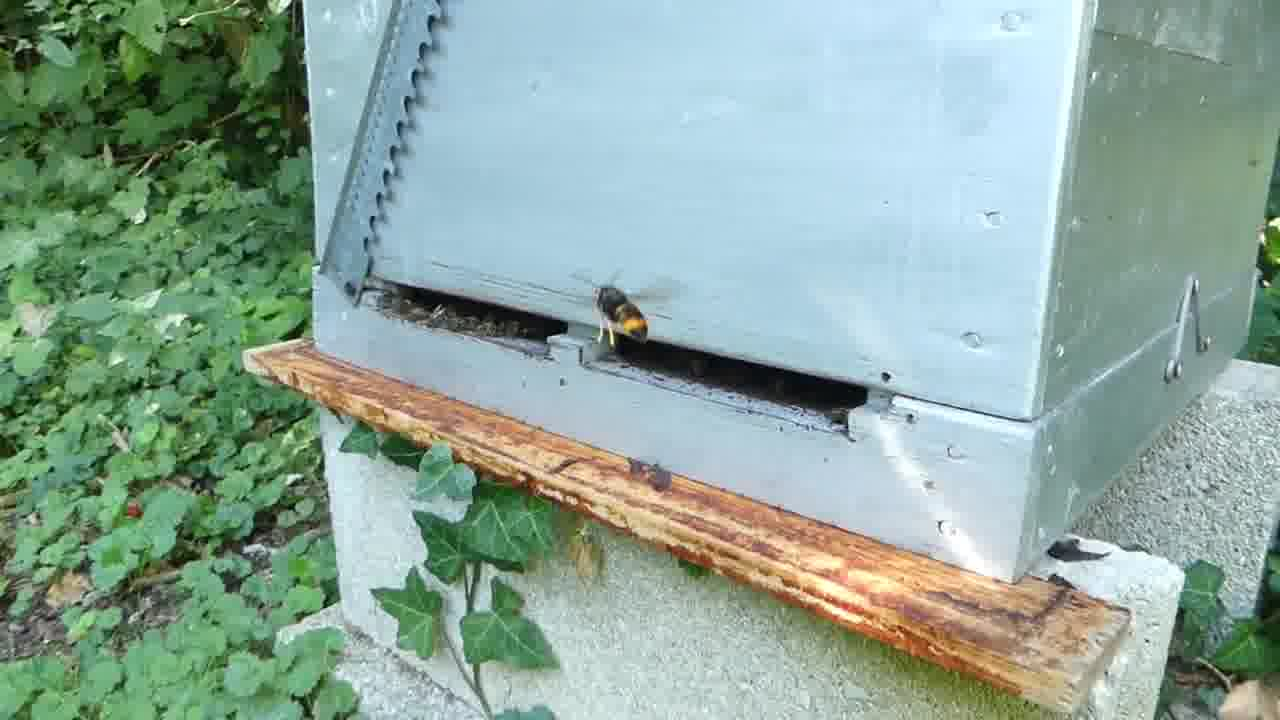hornet: (581, 275, 662, 345)
